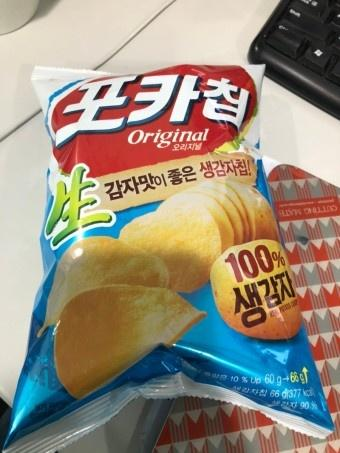snack: (0, 61, 336, 453)
